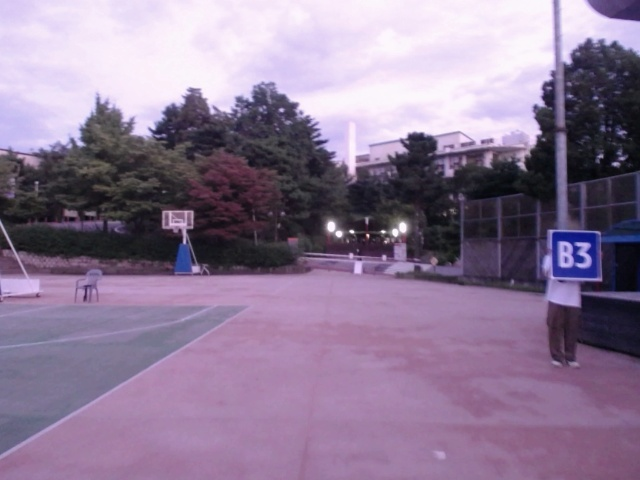delivery_b3: (549, 229, 601, 282)
